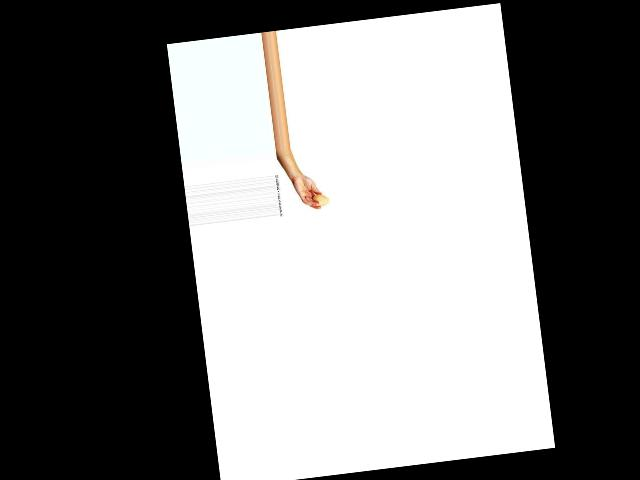egg: (311, 192, 329, 207)
